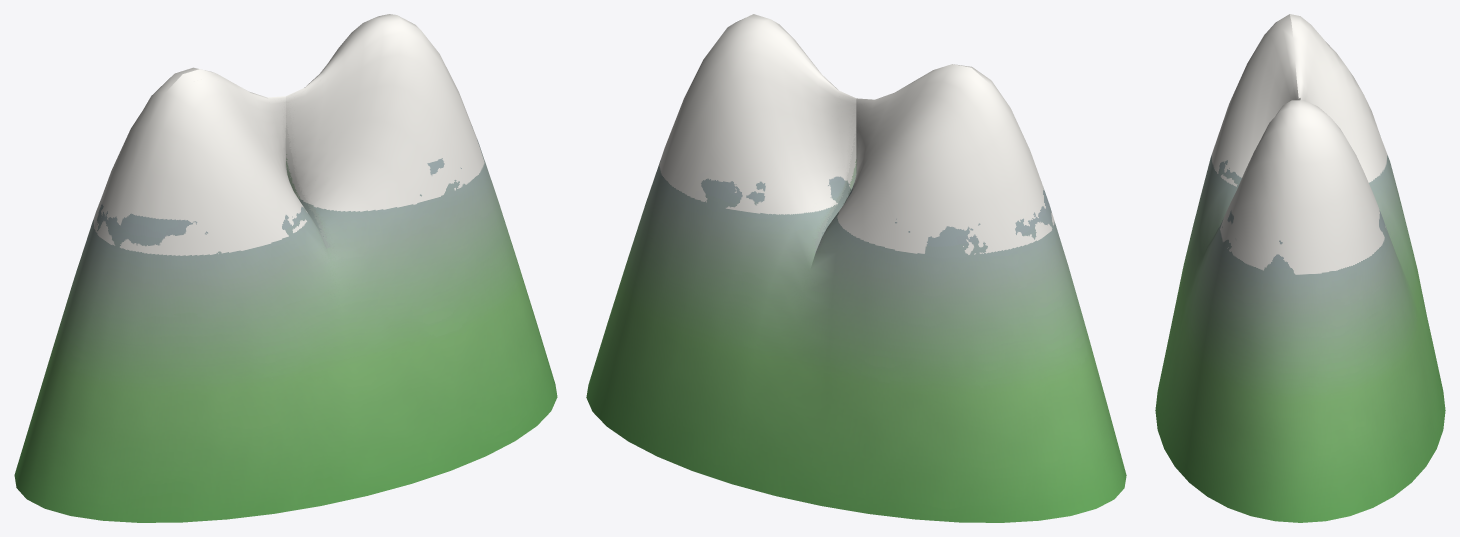
The model's file is hill_c.fbx.
3 views of the same model, side by side, from view 1: azimuth 30°, elevation 25°; view 2: azimuth 150°, elevation 25°; view 3: azimuth 270°, elevation 25° (orthographic). The views are drawn at different scales.
Parts seen in each view (by area): view 1: hill_c; view 2: hill_c; view 3: hill_c.
Part boxes in pixels (bbox=[...]): hill_c: bbox=[14, 14, 557, 522]; hill_c: bbox=[586, 14, 1126, 522]; hill_c: bbox=[1155, 14, 1445, 522].
Size of the model in its own units: 22000 by 16000 by 12000.
1 material, 1 textured.
